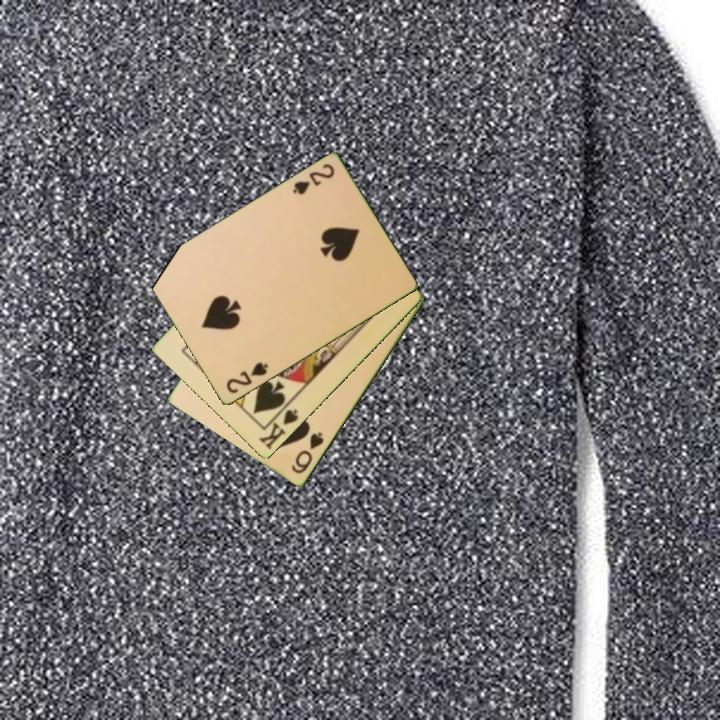2s: (223, 359, 271, 397), (289, 160, 337, 198)
6s: (288, 429, 327, 477)
Ks: (255, 399, 302, 453)
